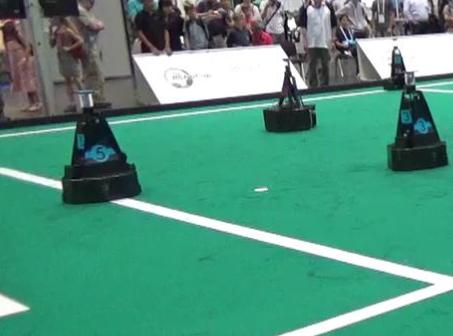robot: (56, 89, 145, 205), (387, 68, 453, 172), (261, 56, 319, 134)
